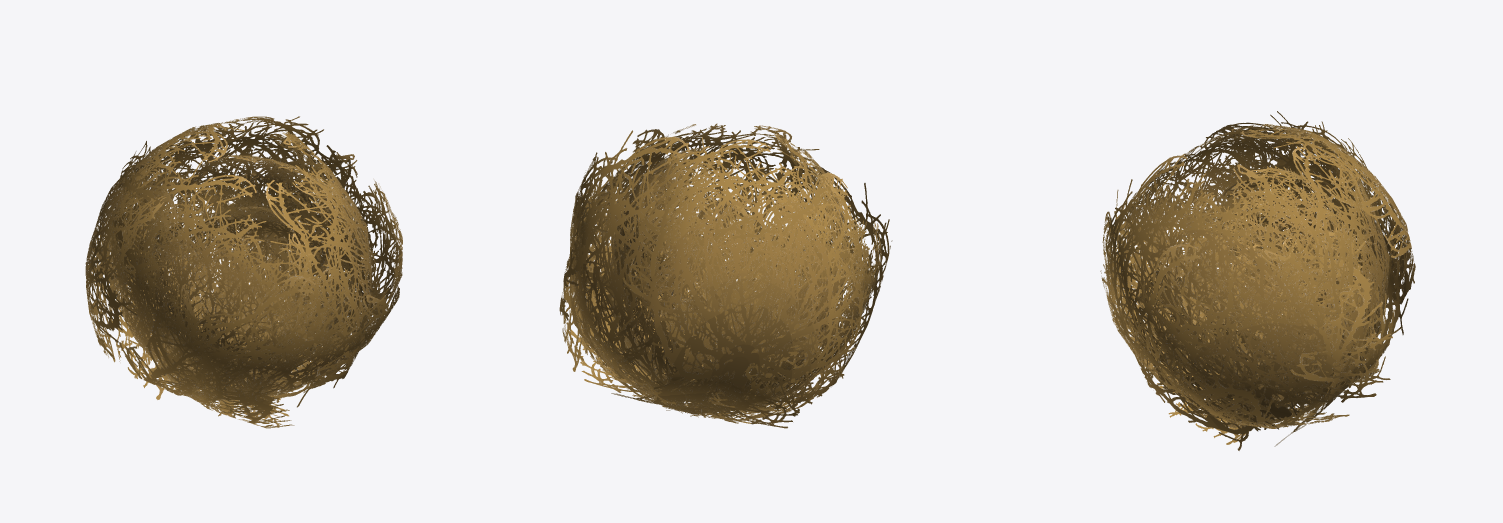
Rendered from arokierija.glb.
3 renders of one model, left to right at view 1: azimuth 30°, elevation 25°; view 2: azimuth 150°, elevation 25°; view 3: azimuth 270°, elevation 25°, orthographic. The views are drawn at different scales.
Visible parts, largest first — view 1: tumbleweed; view 2: tumbleweed; view 3: tumbleweed.
Boxes of the visible parts, x1,y1,x2,y2 form: tumbleweed: [85, 116, 402, 428]; tumbleweed: [559, 123, 892, 428]; tumbleweed: [1100, 111, 1415, 450].
Bounding box in the file's own units: 0.7804 × 0.9952 × 0.9139.
1 material, 1 textured.
